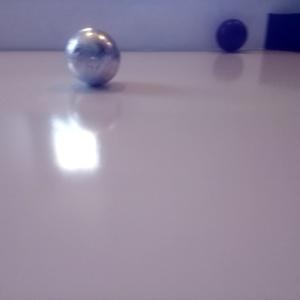zone: (263, 13, 300, 53)
